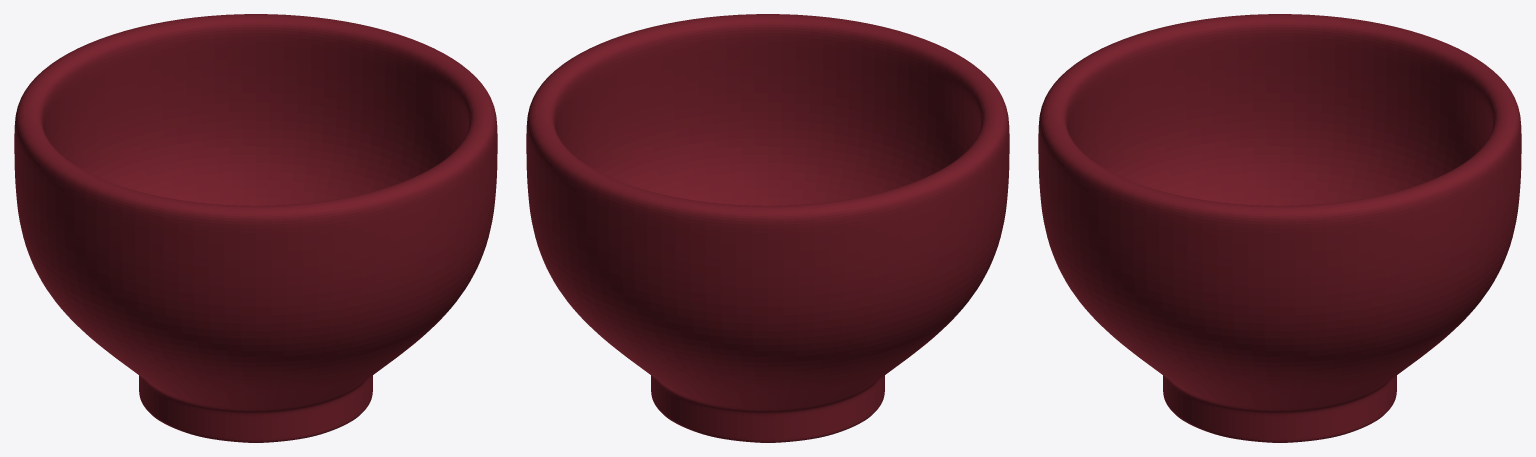
The model's file is RedBoll.fbx.
3 renders of one model, left to right at view 1: azimuth 30°, elevation 25°; view 2: azimuth 150°, elevation 25°; view 3: azimuth 270°, elevation 25°, orthographic.
Parts seen in each view (by area): view 1: Cylinder; view 2: Cylinder; view 3: Cylinder.
Boxes of the visible parts, box(x1,y1,x2,y2) form: Cylinder: box(14, 14, 497, 442); Cylinder: box(526, 14, 1009, 442); Cylinder: box(1038, 14, 1521, 442).
Size of the model in its own units: 191 by 125 by 191.
